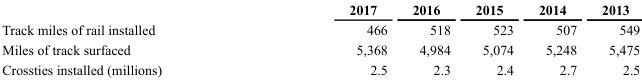table: (1, 1, 639, 77)
table column: (1, 1, 254, 77), (254, 1, 399, 77), (399, 1, 462, 77), (462, 1, 525, 77), (525, 1, 588, 77), (588, 1, 639, 77)
table column header: (1, 1, 639, 19)
table row: (1, 19, 639, 39), (1, 39, 639, 59), (1, 1, 639, 19), (1, 59, 639, 77)
